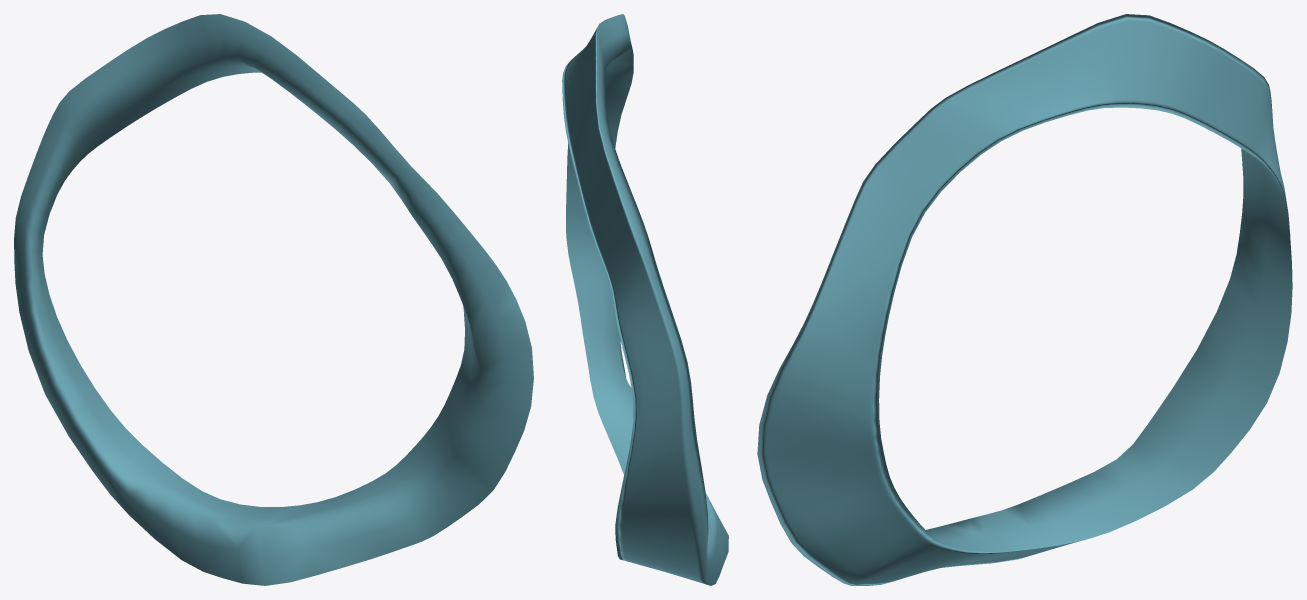
3 renders of one model, left to right at view 1: azimuth 30°, elevation 25°; view 2: azimuth 150°, elevation 25°; view 3: azimuth 270°, elevation 25°, orthographic. The views are drawn at different scales.
Parts seen in each view (by area): view 1: 左侧髋臼唇; view 2: 左侧髋臼唇; view 3: 左侧髋臼唇.
Boxes of the visible parts, box(x1,y1,x2,y2) form: 左侧髋臼唇: box(14, 14, 533, 585); 左侧髋臼唇: box(562, 14, 728, 585); 左侧髋臼唇: box(757, 14, 1292, 585).
Size of the model in its own units: 0.052 by 0.0844 by 0.0705.
